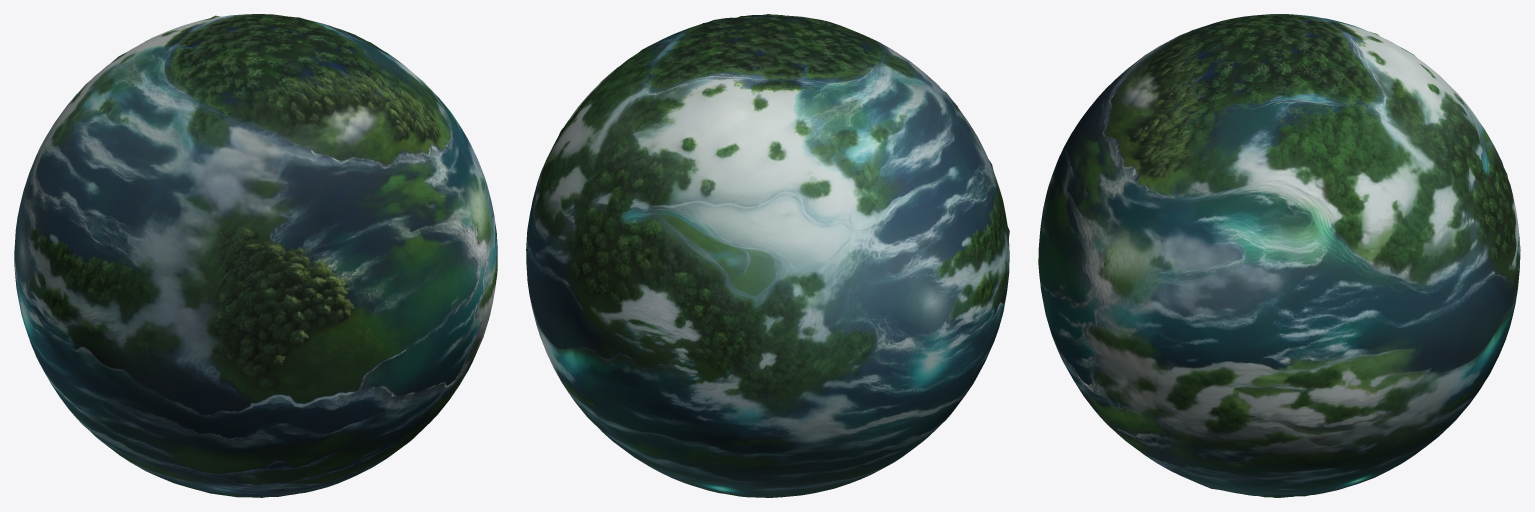
The model's file is jungle_planet_3.glb.
3 renders of one model, left to right at view 1: azimuth 30°, elevation 25°; view 2: azimuth 150°, elevation 25°; view 3: azimuth 270°, elevation 25°, orthographic.
Visible parts, largest first — view 1: Mesh_0.034; view 2: Mesh_0.034; view 3: Mesh_0.034.
Boxes of the visible parts, left/top/right/bottom form: Mesh_0.034: left=14, top=14, right=497, bottom=497; Mesh_0.034: left=526, top=14, right=1009, bottom=497; Mesh_0.034: left=1038, top=14, right=1520, bottom=497.
Bounding box in the file's own units: 2 × 2 × 2.
Materials: 1 (1 with a texture image).
